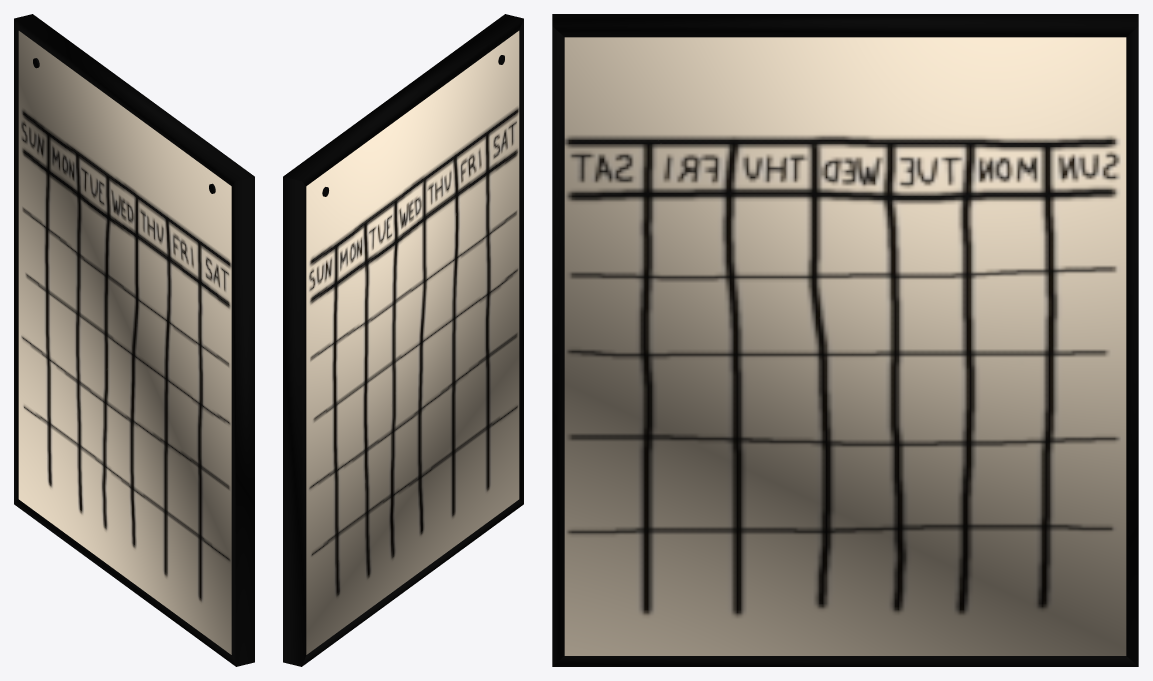
Rendered from calendar.fbx.
3 views of the same model, side by side, from view 1: azimuth 30°, elevation 25°; view 2: azimuth 150°, elevation 25°; view 3: azimuth 270°, elevation 25° (orthographic). The views are drawn at different scales.
Parts seen in each view (by area): view 1: walldecor.007; view 2: walldecor.007; view 3: walldecor.007.
Part boxes in pixels (x1=…): walldecor.007: x1=14, y1=14, x2=254, y2=666; walldecor.007: x1=283, y1=14, x2=523, y2=666; walldecor.007: x1=552, y1=14, x2=1138, y2=666.
Bounding box in the file's own units: 4.9 × 111 × 92.03.
